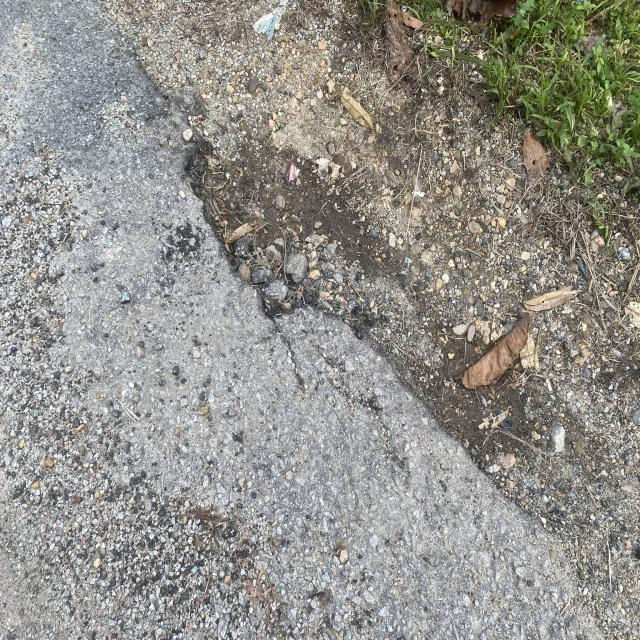pothole: (113, 100, 391, 442)
